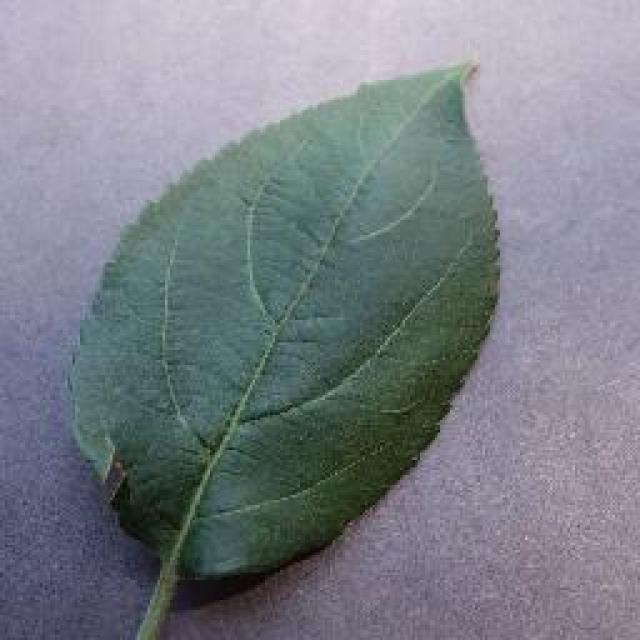Apple___healthy: (61, 55, 505, 587)
